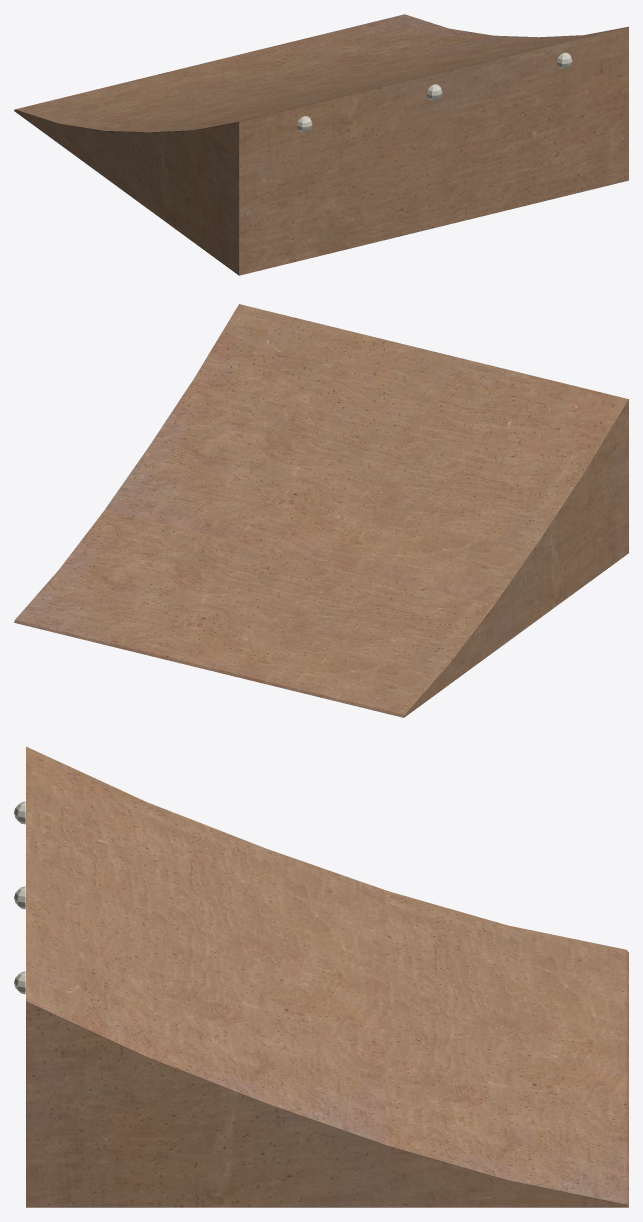
The model's file is ramp_textured.fbx.
3 views of the same model, one above another, from view 1: azimuth 30°, elevation 25°; view 2: azimuth 150°, elevation 25°; view 3: azimuth 270°, elevation 25° (orthographic). The views are drawn at different scales.
Parts seen in each view (by area): view 1: pCube2; view 2: pCube2; view 3: pCube2.
Part boxes in pixels (x1,y1,x2,y2): pCube2: (14,14,628,275); pCube2: (14,304,628,717); pCube2: (14,746,628,1207).
Bounding box in the file's own units: 6 × 2.26 × 6.12.
